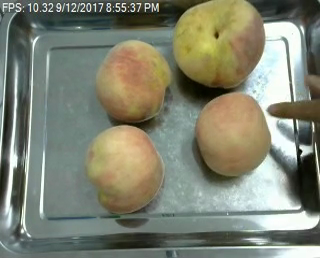Peach: (173, 0, 264, 87), (84, 124, 164, 214), (195, 91, 271, 176), (95, 36, 171, 121)
